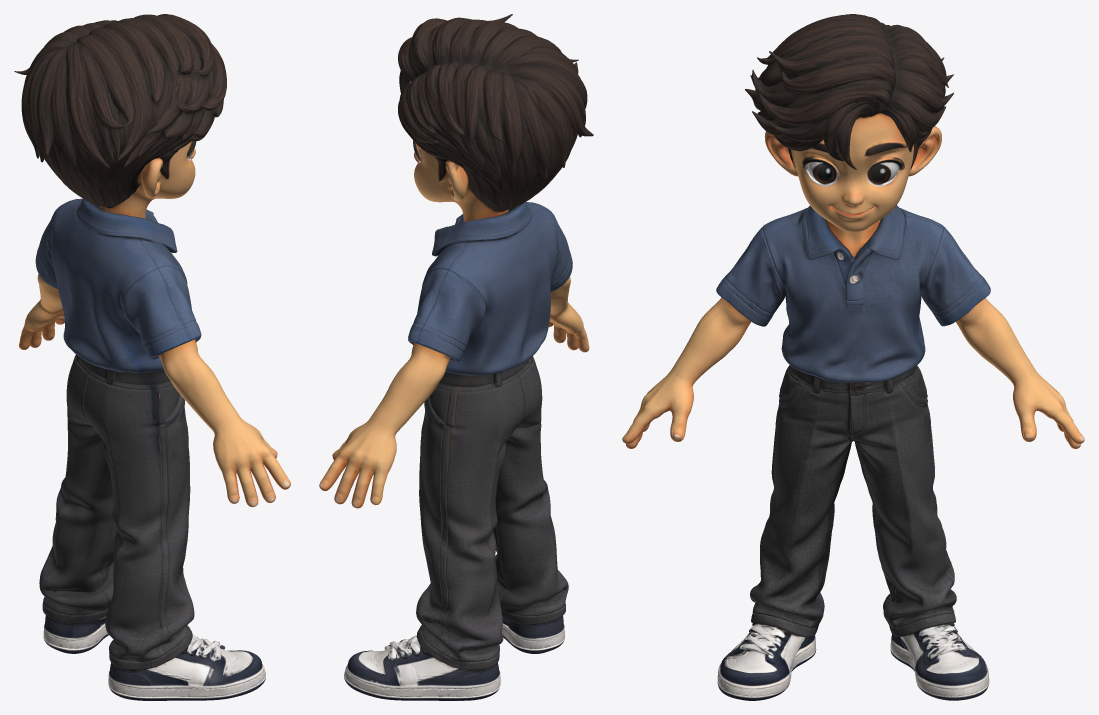
The model's file is staff-male.glb.
3 views of the same model, side by side, from view 1: azimuth 30°, elevation 25°; view 2: azimuth 150°, elevation 25°; view 3: azimuth 270°, elevation 25° (orthographic).
Visible parts, largest first — view 1: tripo_node_7fc3ff35-929b-4a34-b13c-cbdf8893e5dd; view 2: tripo_node_7fc3ff35-929b-4a34-b13c-cbdf8893e5dd; view 3: tripo_node_7fc3ff35-929b-4a34-b13c-cbdf8893e5dd.
Boxes of the visible parts, bbox=[...] form: tripo_node_7fc3ff35-929b-4a34-b13c-cbdf8893e5dd: bbox=[14, 14, 290, 700]; tripo_node_7fc3ff35-929b-4a34-b13c-cbdf8893e5dd: bbox=[319, 14, 593, 700]; tripo_node_7fc3ff35-929b-4a34-b13c-cbdf8893e5dd: bbox=[622, 14, 1084, 700].
Size of the model in its own units: 0.296 by 0.9805 by 0.6435.
1 material, 1 textured.
